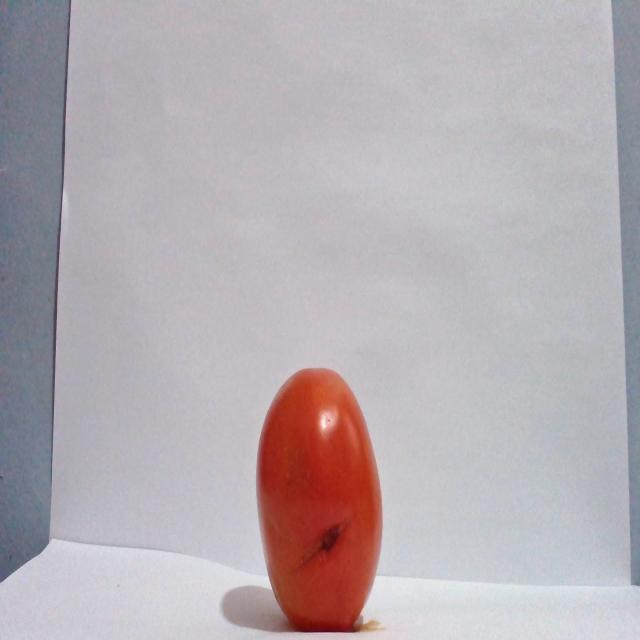Red: (254, 365, 383, 631)
